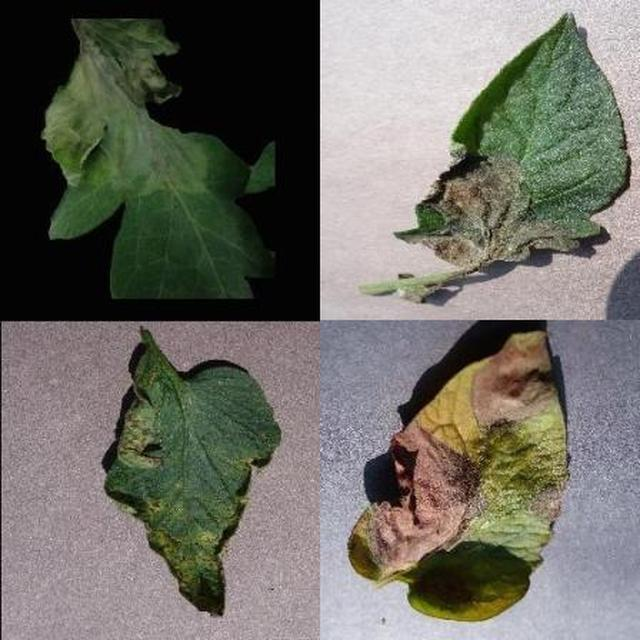Late Blight Leaf: (229, 200, 640, 640)
